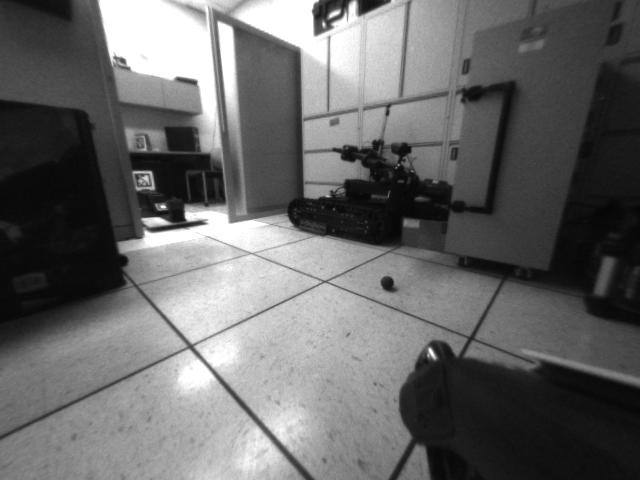dogtoy: (374, 268, 404, 297)
